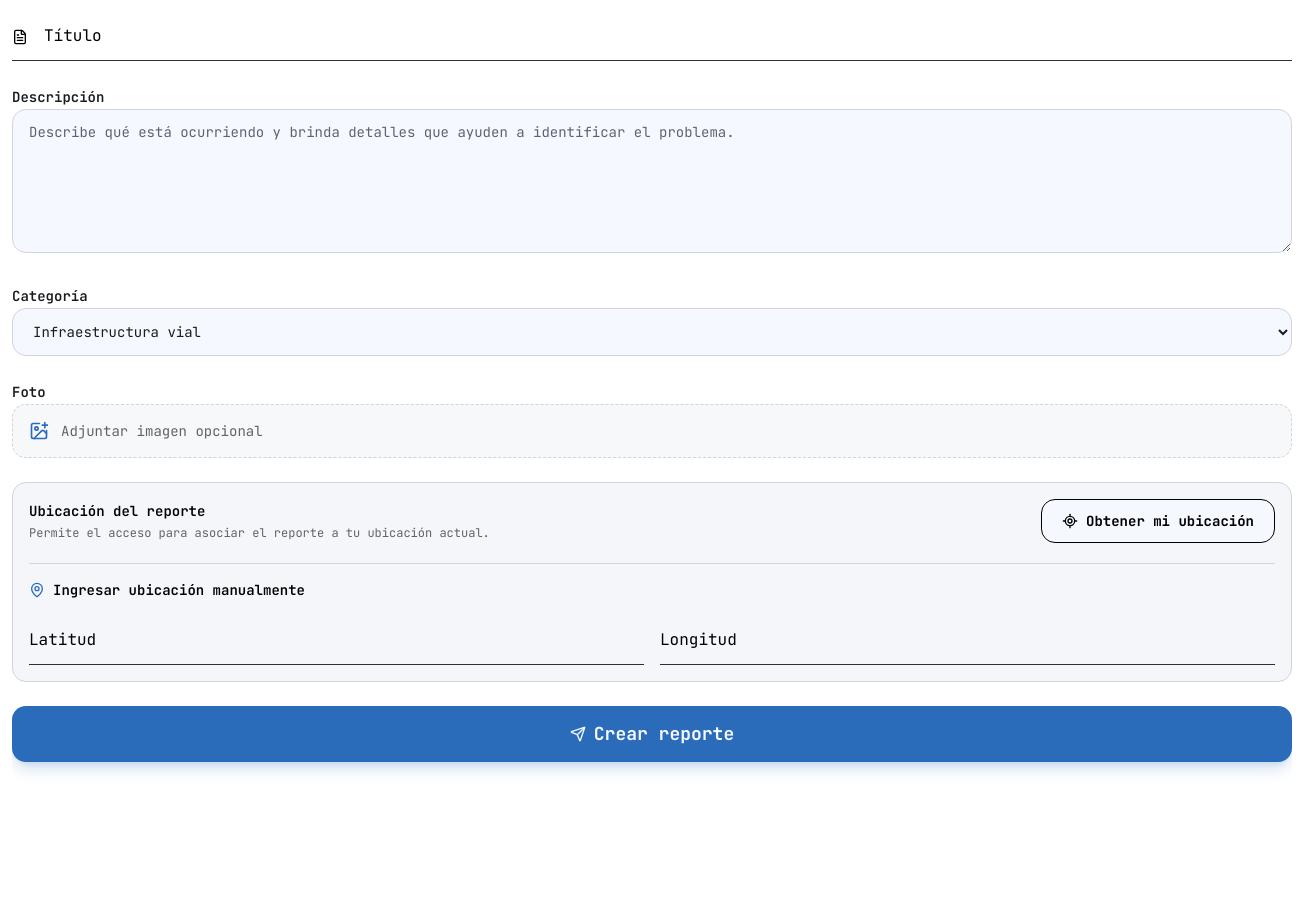
Test: CreateReportForm › no permite enviar el formulario sin título ni descripción
Click the button "Crear reporte" at coordinates (652, 734), box [12,706,1292,762]
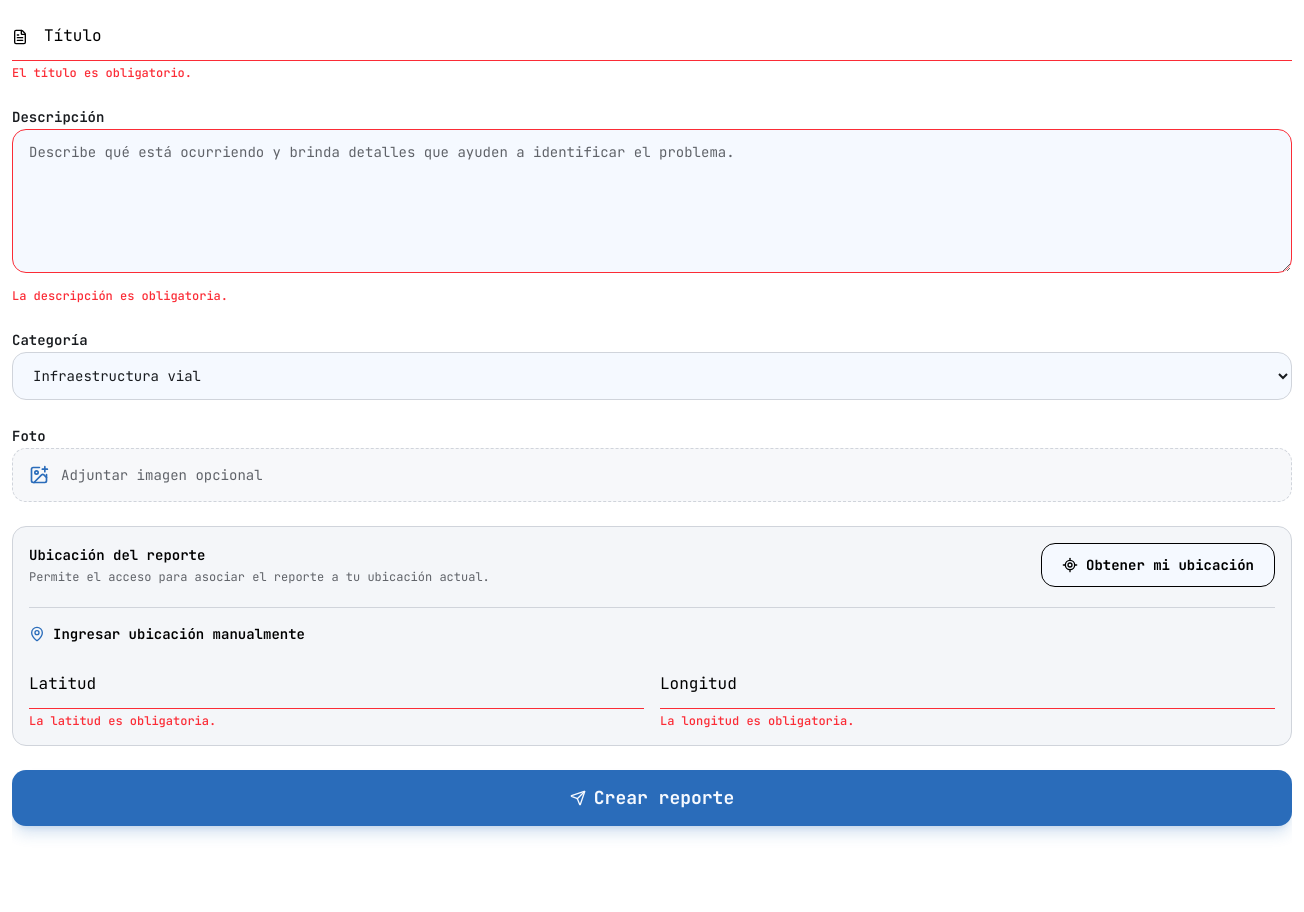
Expected: the text "El título es obligatorio." is shown, [12,65,192,81]
Expected: the text "La descripción es obligatoria." is shown, [12,288,228,304]
